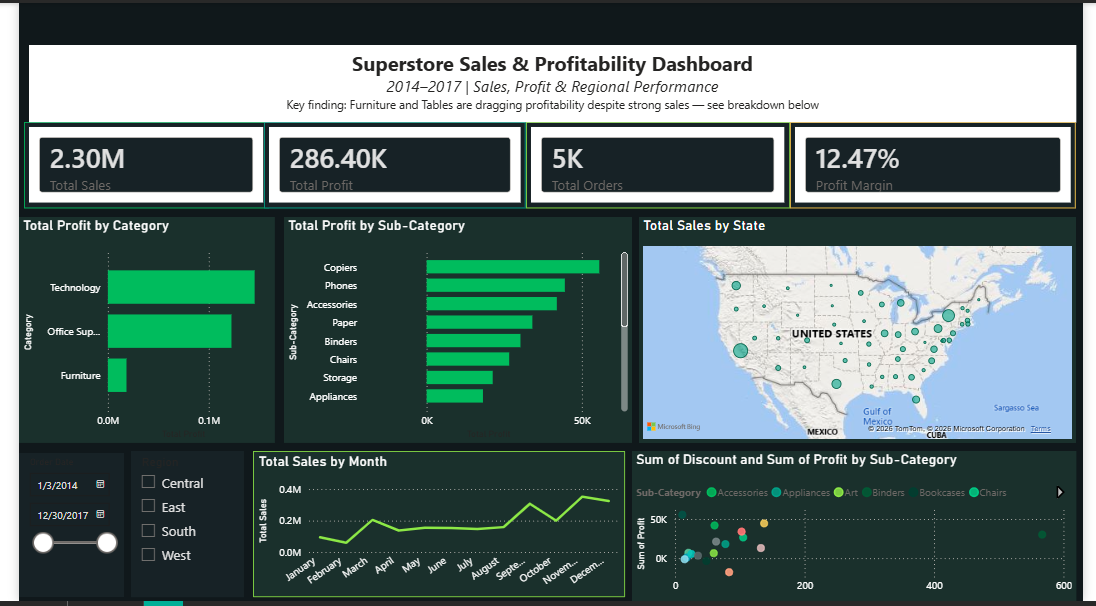

Layout of this report page (visuals, bound fields, positions):
{"tool":"powerbi","page":{"name":"Page 1","canvas":[1280,720],"ordinal":0},"visuals":[{"type":"cardVisual","fields":{"Data":["Sample - Superstore.Total Sales"]},"box":[6,143.3,295,103.5],"z":0},{"type":"cardVisual","fields":{"Data":["Sample - Superstore.Total Profit"]},"box":[295,143.3,315.5,103.5],"z":1000},{"type":"cardVisual","fields":{"Data":["Sample - Superstore.Total Orders"]},"box":[610.4,143.3,317.9,103.5],"z":2000},{"type":"cardVisual","fields":{"Data":["Sample - Superstore.Profit Margin"]},"box":[928.3,143.3,344.3,103.5],"z":3000},{"type":"clusteredBarChart","fields":{"Category":["Sample - Superstore.Category"],"Y":["Sample - Superstore.Total Profit"]},"box":[0,257.7,308.2,272.1],"z":4000},{"type":"clusteredBarChart","fields":{"Category":["Sample - Superstore.Sub-Category"],"Y":["Sample - Superstore.Total Profit"]},"box":[319.1,257.7,419,272.1],"z":5000},{"type":"lineChart","fields":{"Category":["Sample - Superstore.Order Date.Variation.Date Hierarchy.Month"],"Y":["Sample - Superstore.Total Sales"]},"box":[281.7,539.4,447.9,175.8],"z":6000},{"type":"scatterChart","fields":{"X":["Sum(Sample - Superstore.Discount)"],"Y":["Sum(Sample - Superstore.Profit)"],"Series":["Sample - Superstore.Sub-Category"]},"box":[738.1,539.4,534.6,180.6],"z":7000},{"type":"map","fields":{"Size":["Sample - Superstore.Total Sales"],"Category":["Sample - Superstore.State"]},"box":[746.5,257.7,526.2,272.1],"z":8000},{"type":"slicer","fields":{"Values":["Sample - Superstore.Region"]},"box":[134.8,539.4,136.1,175.8],"z":9000},{"type":"slicer","fields":{"Values":["Sample - Superstore.Order Date"]},"box":[0,541.8,126.4,173.4],"z":10000},{"type":"textbox","box":[12,50.6,1260.6,92.7],"z":11000}]}

Visuals, with their boxes in screenshot pixels (x1, y1, x2, y2), scaled from the page's 1280x720 canvas onto the 1096x606 screenshot:
cardVisual - Sample - Superstore.Total Sales: [left=5, top=121, right=258, bottom=208]
cardVisual - Sample - Superstore.Total Profit: [left=253, top=121, right=523, bottom=208]
cardVisual - Sample - Superstore.Total Orders: [left=523, top=121, right=795, bottom=208]
cardVisual - Sample - Superstore.Profit Margin: [left=795, top=121, right=1090, bottom=208]
clusteredBarChart - Sample - Superstore.Category x Sample - Superstore.Total Profit: [left=0, top=217, right=264, bottom=446]
clusteredBarChart - Sample - Superstore.Sub-Category x Sample - Superstore.Total Profit: [left=273, top=217, right=632, bottom=446]
lineChart - Sample - Superstore.Order Date.Variation.Date Hierarchy.Month x Sample - Superstore.Total Sales: [left=241, top=454, right=625, bottom=602]
scatterChart - Sum(Sample - Superstore.Discount) x Sum(Sample - Superstore.Profit): [left=632, top=454, right=1090, bottom=605]
map - Sample - Superstore.Total Sales x Sample - Superstore.State: [left=639, top=217, right=1090, bottom=446]
slicer - Sample - Superstore.Region: [left=115, top=454, right=232, bottom=602]
slicer - Sample - Superstore.Order Date: [left=0, top=456, right=108, bottom=602]
textbox: [left=10, top=43, right=1090, bottom=121]
